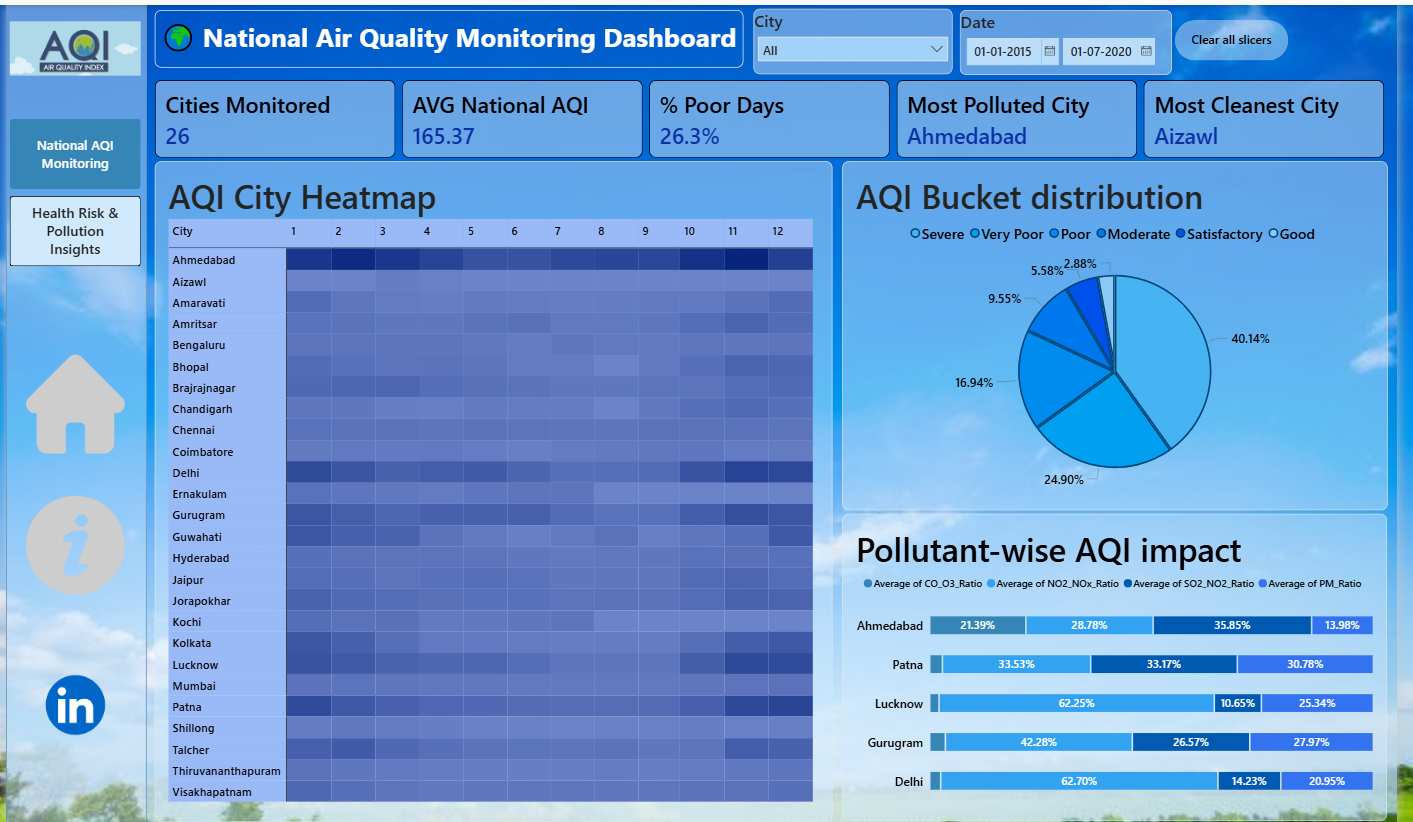

This screenshot's page, from the dashboard's own definition file:
{"tool":"powerbi","page":{"name":"National AQI Monitoring","canvas":[1700,1000],"ordinal":0},"visuals":[{"type":"cardVisual","fields":{"Data":["MeasureTable.Total Cities","MeasureTable.AVG AQI","MeasureTable.% Poor Days","MeasureTable.Most Polluted City","MeasureTable.Most Cleanest City"]},"box":[181.9,90.9,1506.3,95.9],"z":0},{"type":"textbox","box":[181.9,6.6,719.2,70],"z":1000},{"type":"shape","box":[0,0,172,1000.3],"z":2000},{"type":"pivotTable","title":"AQI City Heatmap","fields":{"Rows":["Aqi_Data.City"],"Columns":["Aqi_Data.Month"],"Values":["MeasureTable.AVG AQI"]},"box":[181.9,190.1,828.4,806.9],"z":3000},{"type":"pieChart","title":"AQI Bucket distribution ","fields":{"Category":["Aqi_Data.AQI_Bucket"],"Y":["MeasureTable.AVG AQI"]},"box":[1021.8,190.1,666.3,426.6],"z":4000},{"type":"slicer","title":"City","fields":{"Values":["Aqi_Data.City"]},"box":[912.7,5,243.1,80],"z":5000},{"type":"slicer","title":"Date","fields":{"Values":["Calender.Date"]},"box":[1165.7,6.6,259.6,79.4],"z":6000},{"type":"actionButton","box":[1428.6,18.2,138.9,49.6],"z":7000},{"type":"image","box":[4.3,18.2,160.4,69.4],"z":8000},{"type":"hundredPercentStackedBarChart","title":"Pollutant-wise AQI impact ","fields":{"Category":["Aqi_Data.City"],"Y":["Avg(Aqi_Data.CO_O3_Ratio)","Avg(Aqi_Data.NO2_NOx_Ratio)","Avg(Aqi_Data.SO2_NO2_Ratio)","Avg(Aqi_Data.PM_Ratio)"]},"box":[1022.4,621.5,665.2,375.4],"z":9000},{"type":"pageNavigator","box":[4.3,138.9,160.4,180.2],"z":10000},{"type":"image","box":[24.2,418.3,120.7,138.9],"z":11000},{"type":"image","box":[24,593.4,121,132.5],"z":12000},{"type":"image","box":[24,787.4,121,134.4],"z":13000}]}

Visuals, with their boxes in screenshot pixels (x1, y1, x2, y2), scaled from the page's 1700x1000 canvas onto the 1413x822 screenshot:
cardVisual - MeasureTable.Total Cities x MeasureTable.AVG AQI: box=[151, 75, 1403, 154]
textbox: box=[151, 5, 749, 63]
shape: box=[0, 0, 143, 821]
"AQI City Heatmap" pivotTable: box=[151, 156, 840, 820]
"AQI Bucket distribution " pieChart: box=[849, 156, 1403, 507]
"City" slicer: box=[759, 4, 961, 70]
"Date" slicer: box=[969, 5, 1185, 71]
actionButton: box=[1187, 15, 1303, 56]
image: box=[4, 15, 137, 72]
"Pollutant-wise AQI impact " hundredPercentStackedBarChart: box=[850, 511, 1403, 819]
pageNavigator: box=[4, 114, 137, 262]
image: box=[20, 344, 120, 458]
image: box=[20, 488, 121, 597]
image: box=[20, 647, 121, 758]
